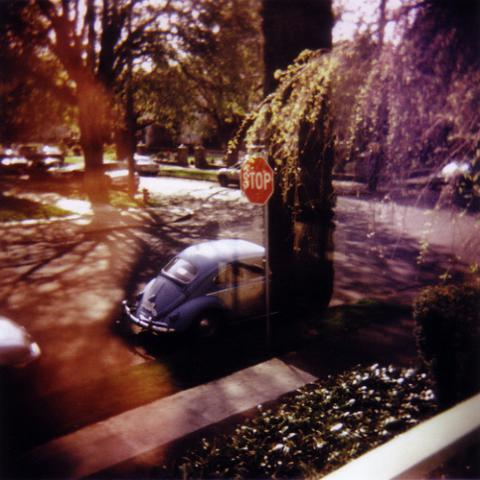car: (116, 234, 269, 349), (0, 314, 40, 397), (73, 160, 140, 194), (216, 160, 245, 188), (0, 154, 31, 174), (53, 163, 85, 179), (134, 156, 158, 174)
